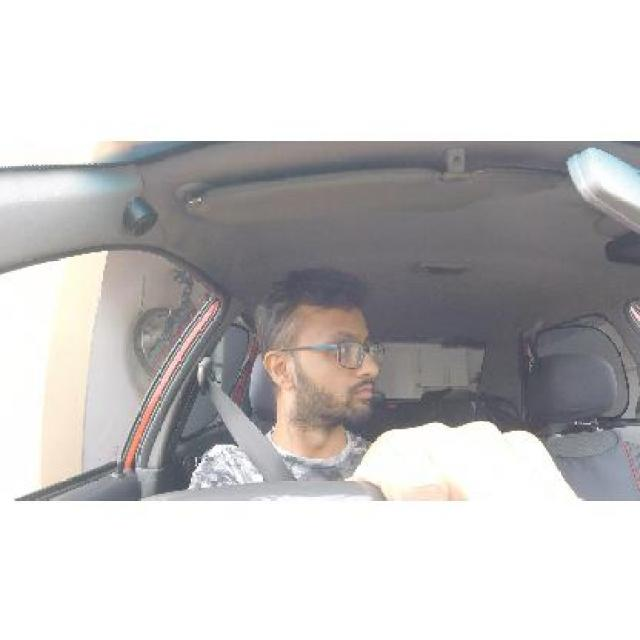LeftRight: (255, 259, 391, 437)
